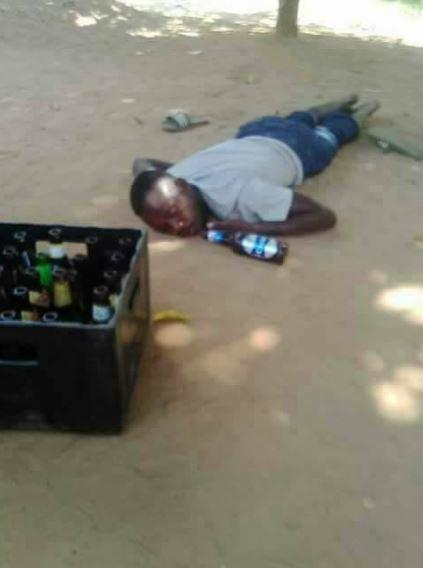Drunk: (129, 169, 200, 233)
